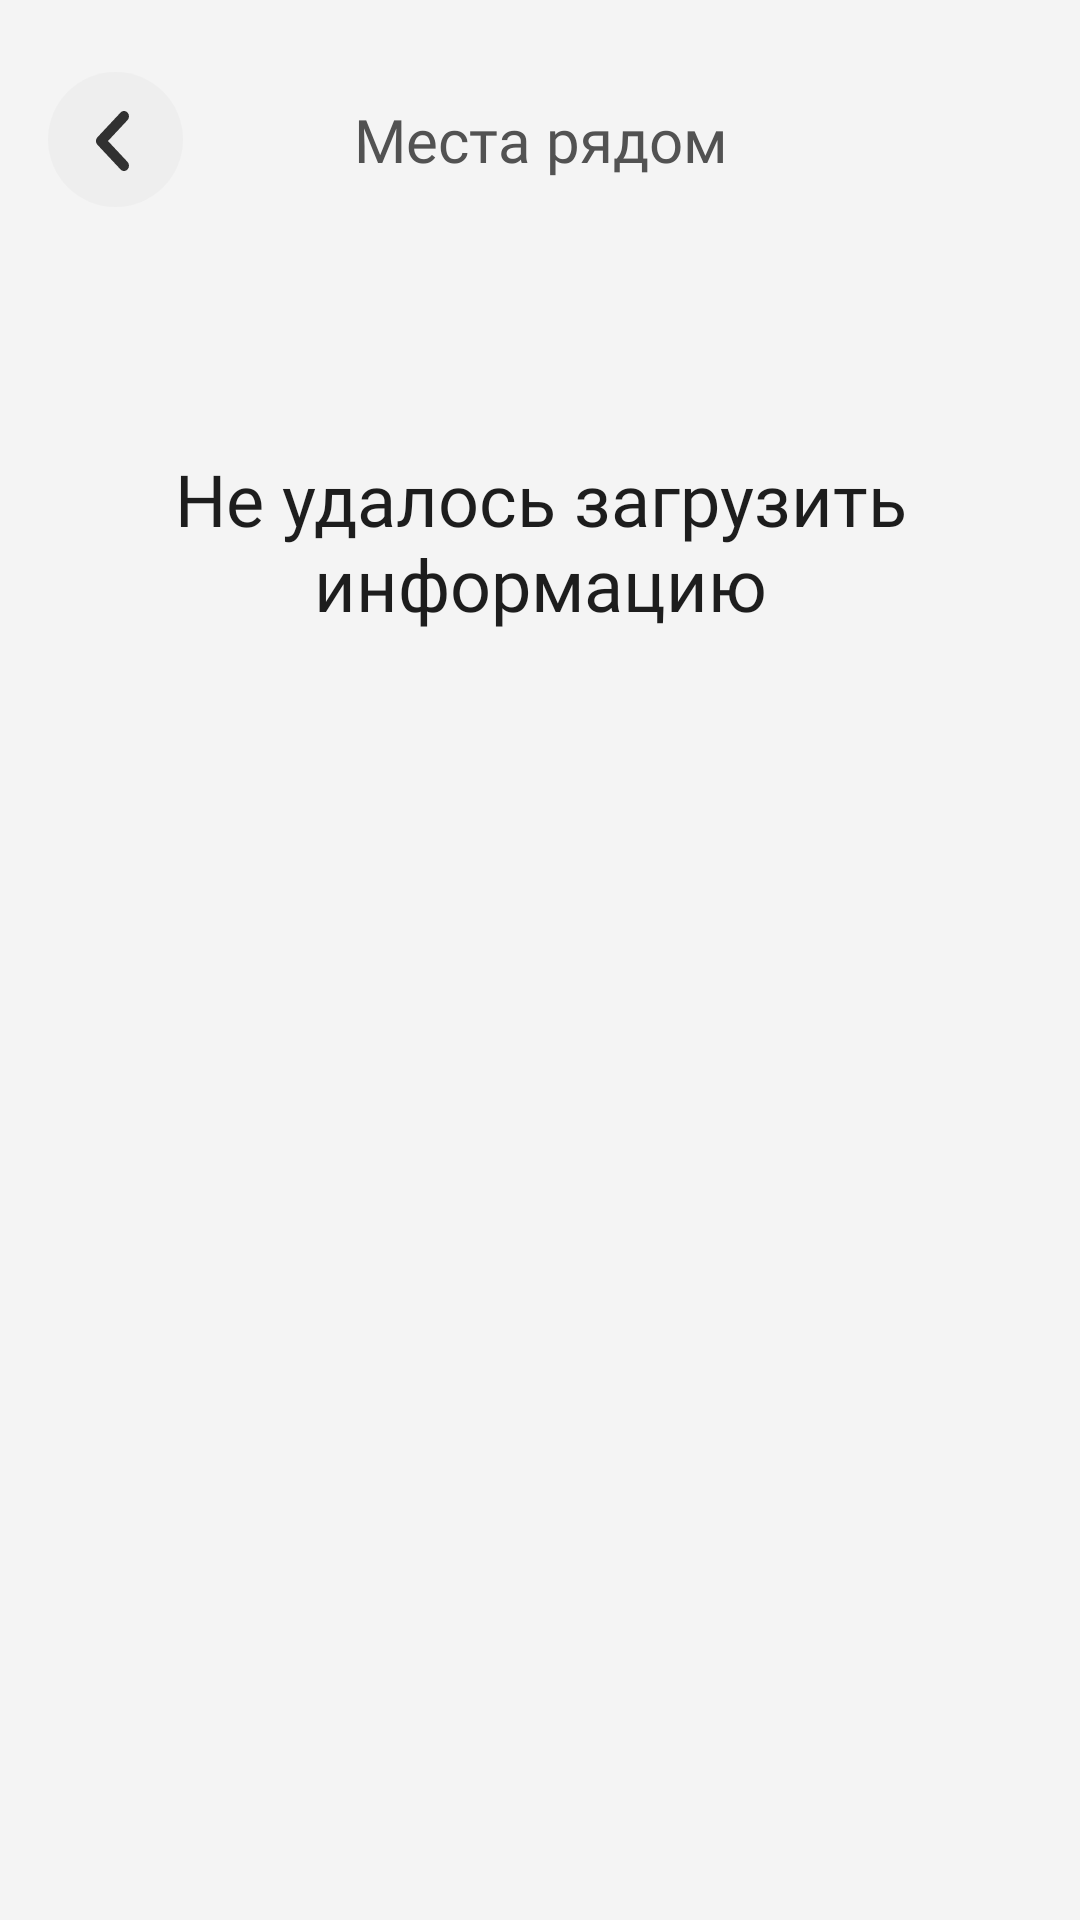

Named icons in this screenshot (1080px×1920px) and their centers, point (x, y):
backbutton: point (112, 141)
